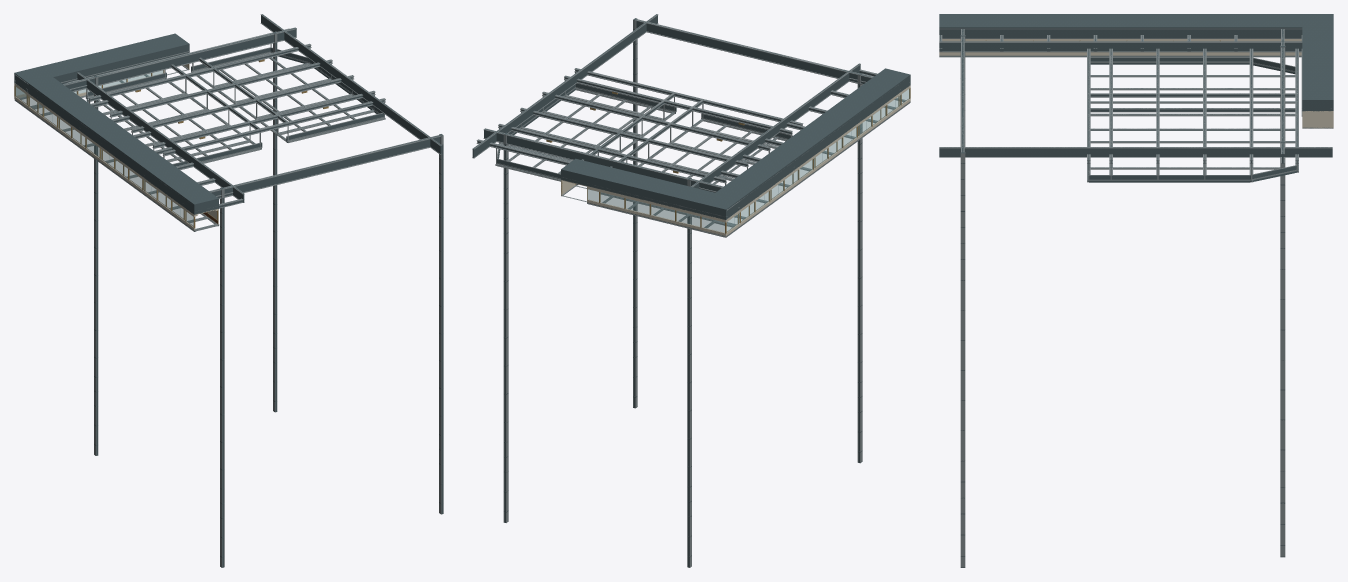
File: AST-CMD-003.glb
The picture shows the model from 3 angles, left to right: view 1: azimuth 30°, elevation 25°; view 2: azimuth 150°, elevation 25°; view 3: azimuth 270°, elevation 25°; orthographic projection. The views are drawn at different scales.
Visible parts, largest first — view 1: BRP_CELL_X-6_Y14_Z-11_ASTRAEA_staff_bluegrey_paint; view 2: no part large enough to name; view 3: BRP_CELL_X-6_Y14_Z-16_ASTRAEA_staff_bluegrey_paint, BRP_CELL_X-6_Y14_Z-15_ASTRAEA_staff_bluegrey_paint, BRP_CELL_X-6_Y14_Z-19_ASTRAEA_staff_bluegrey_paint, BRP_CELL_X-6_Y14_Z-18_ASTRAEA_staff_bluegrey_paint, BRP_CELL_X-6_Y14_Z-12_ASTRAEA_staff_bluegrey_paint, BRP_CELL_X-6_Y14_Z-20_ASTRAEA_staff_bluegrey_paint, BRP_CELL_X-6_Y14_Z-17_ASTRAEA_staff_bluegrey_paint, BRP_CELL_X-6_Y14_Z-14_ASTRAEA_staff_bluegrey_paint, BRP_CELL_X-6_Y14_Z-21_ASTRAEA_staff_bluegrey_paint, BRP_CELL_X-6_Y14_Z-13_ASTRAEA_staff_bluegrey_paint, BRP_CELL_X-6_Y14_Z-11_ASTRAEA_staff_bluegrey_paint, BRP_CELL_X-6_Y14_Z-22_ASTRAEA_staff_bluegrey_paint (+1 smaller).
Part boxes in pixels (x1=…): BRP_CELL_X-6_Y14_Z-11_ASTRAEA_staff_bluegrey_paint: x1=180, y1=188, x2=218, y2=211; BRP_CELL_X-6_Y14_Z-16_ASTRAEA_staff_bluegrey_paint: x1=1095, y1=14, x2=1126, y2=35; BRP_CELL_X-6_Y14_Z-15_ASTRAEA_staff_bluegrey_paint: x1=1064, y1=14, x2=1095, y2=35; BRP_CELL_X-6_Y14_Z-19_ASTRAEA_staff_bluegrey_paint: x1=1189, y1=14, x2=1220, y2=35; BRP_CELL_X-6_Y14_Z-18_ASTRAEA_staff_bluegrey_paint: x1=1158, y1=14, x2=1189, y2=35; BRP_CELL_X-6_Y14_Z-12_ASTRAEA_staff_bluegrey_paint: x1=970, y1=14, x2=1001, y2=35; BRP_CELL_X-6_Y14_Z-20_ASTRAEA_staff_bluegrey_paint: x1=1220, y1=14, x2=1251, y2=35; BRP_CELL_X-6_Y14_Z-17_ASTRAEA_staff_bluegrey_paint: x1=1126, y1=14, x2=1157, y2=35; BRP_CELL_X-6_Y14_Z-14_ASTRAEA_staff_bluegrey_paint: x1=1033, y1=14, x2=1064, y2=35; BRP_CELL_X-6_Y14_Z-21_ASTRAEA_staff_bluegrey_paint: x1=1251, y1=14, x2=1282, y2=35; BRP_CELL_X-6_Y14_Z-13_ASTRAEA_staff_bluegrey_paint: x1=1002, y1=14, x2=1032, y2=35; BRP_CELL_X-6_Y14_Z-11_ASTRAEA_staff_bluegrey_paint: x1=939, y1=14, x2=970, y2=35; BRP_CELL_X-6_Y14_Z-22_ASTRAEA_staff_bluegrey_paint: x1=1283, y1=14, x2=1313, y2=35.
Size of the model in its own units: 83.94 by 118 by 101.
Materials: 7 (6 with a texture image).
